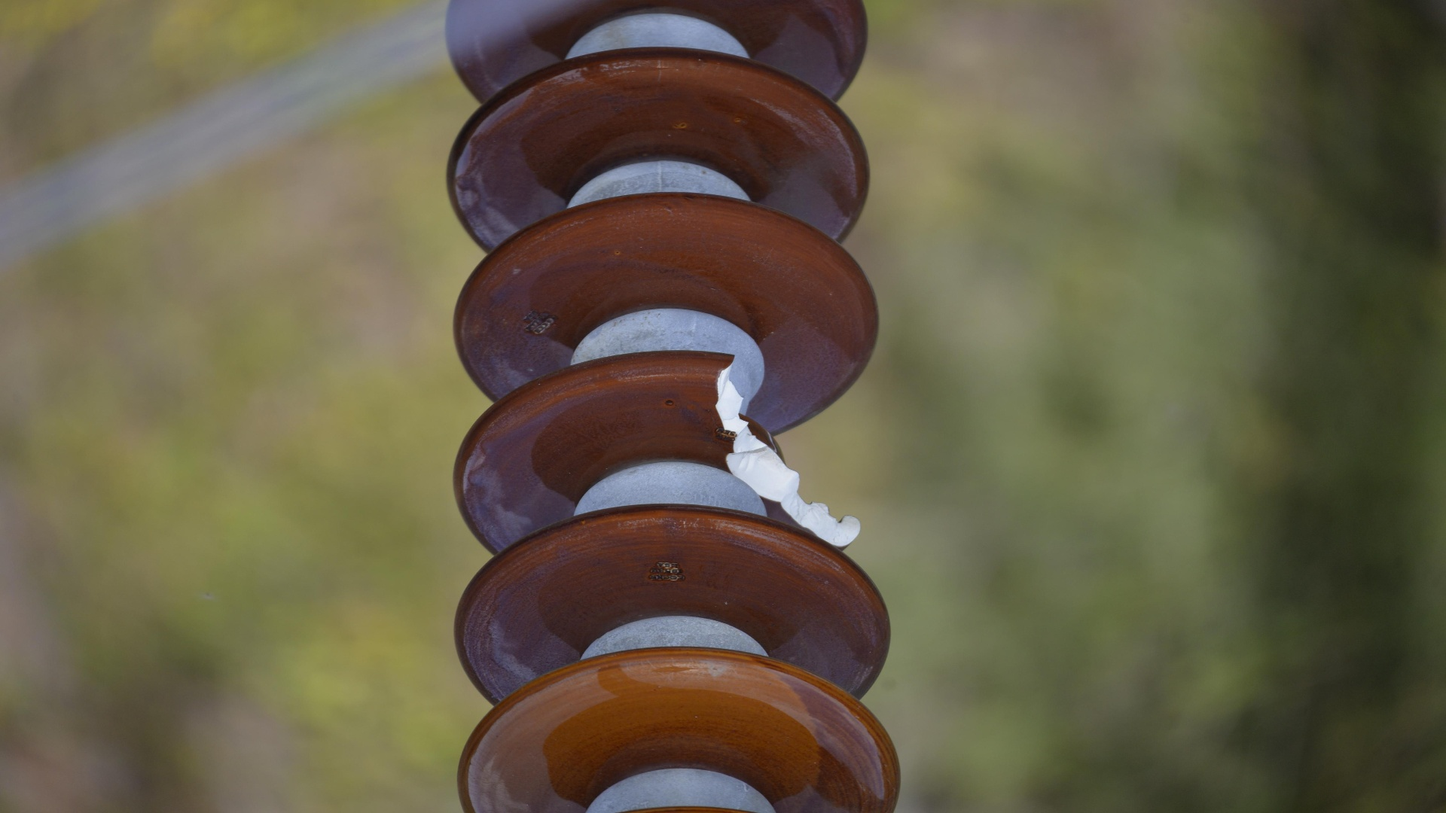insulator: (438, 1, 909, 813)
insulator_breakage: (705, 346, 868, 553)
